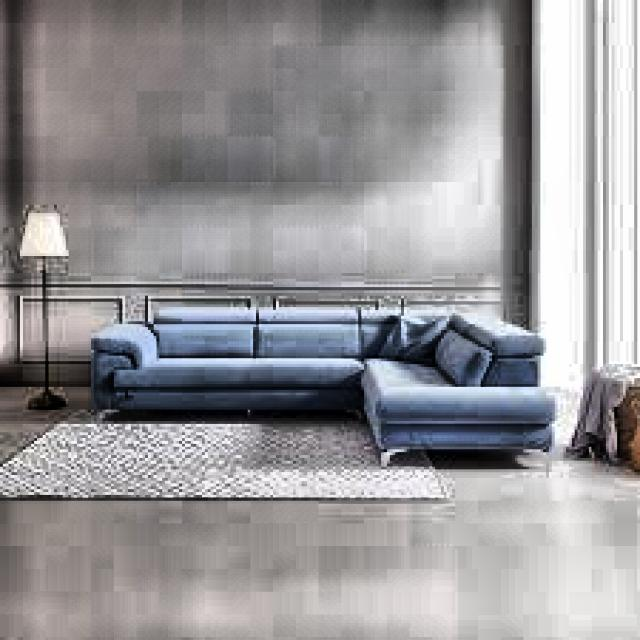sofa: (85, 307, 566, 464)
